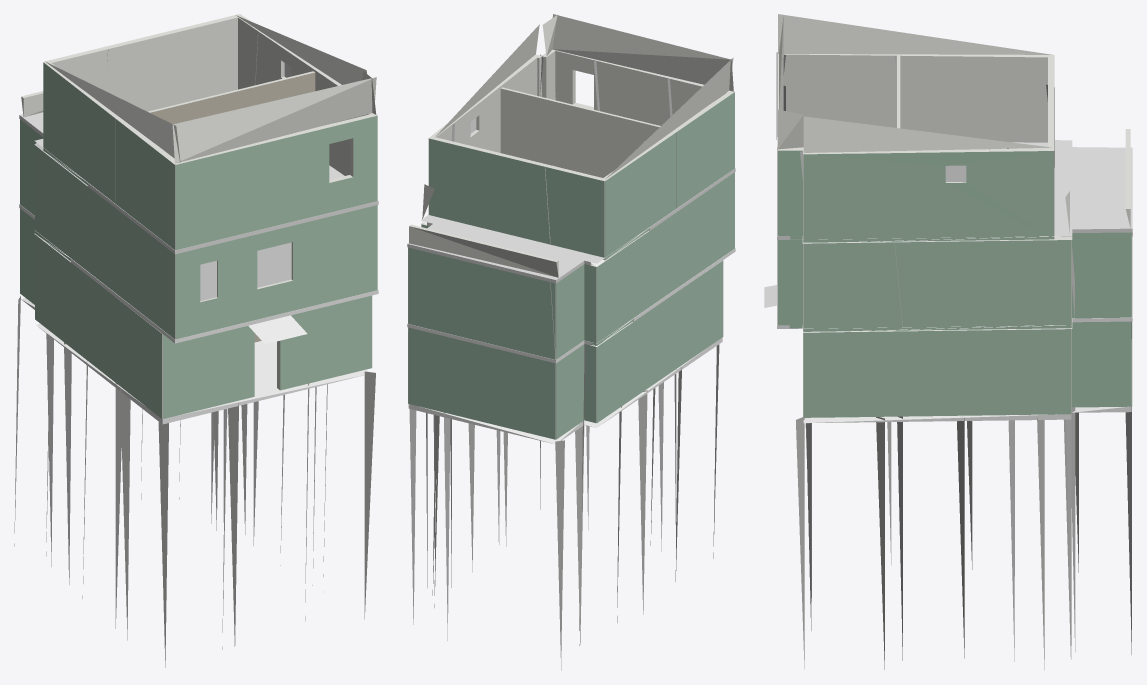
3 views of the same model, side by side, from view 1: azimuth 30°, elevation 25°; view 2: azimuth 150°, elevation 25°; view 3: azimuth 270°, elevation 25° (orthographic). The views are drawn at different scales.
Visible parts, largest first — view 1: F_3; view 2: F_3; view 3: F_3.
Boxes of the visible parts, box(x1,y1,x2,y2) form: F_3: box(14, 14, 378, 667); F_3: box(407, 14, 735, 670); F_3: box(764, 14, 1132, 670).
Size of the model in its own units: 7.06 by 17.86 by 10.67.
